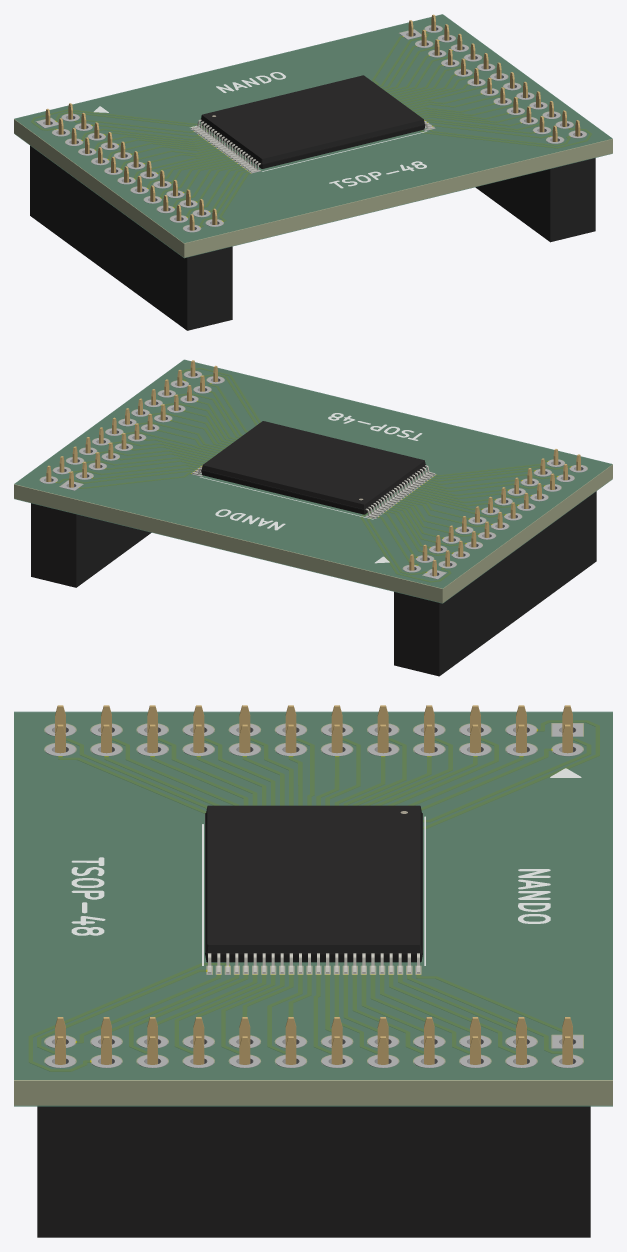
The model's file is board.glb.
3 views of the same model, one above another, from view 1: azimuth 30°, elevation 25°; view 2: azimuth 150°, elevation 25°; view 3: azimuth 270°, elevation 25° (orthographic). The views are drawn at different scales.
Visible parts, largest first — view 1: board_soldermask (×2), board_PCB, PinSocket_2x12_P2.54mm_Vertical (×2), TSOP-I-48_18.4x12mm_P0.5mm, board_pad, board_copper, board_silkscreen; view 2: board_soldermask (×2), board_PCB, PinSocket_2x12_P2.54mm_Vertical (×2), TSOP-I-48_18.4x12mm_P0.5mm, board_pad, board_copper, board_silkscreen; view 3: board_soldermask (×2), board_PCB, PinSocket_2x12_P2.54mm_Vertical (×2), TSOP-I-48_18.4x12mm_P0.5mm, board_copper, board_pad, board_silkscreen.
Boxes of the visible parts, box(x1,y1,x2,y2) form: board_soldermask (×2): box(14, 14, 612, 258); board_PCB: box(14, 15, 612, 257); PinSocket_2x12_P2.54mm_Vertical (×2): box(30, 14, 595, 330); TSOP-I-48_18.4x12mm_P0.5mm: box(191, 75, 434, 172); board_pad: box(36, 25, 586, 232); board_copper: box(31, 30, 591, 227); board_silkscreen: box(94, 72, 426, 188); board_soldermask (×2): box(14, 359, 612, 603); board_PCB: box(14, 360, 612, 603); PinSocket_2x12_P2.54mm_Vertical (×2): box(31, 360, 596, 676); TSOP-I-48_18.4x12mm_P0.5mm: box(192, 421, 435, 518); board_pad: box(40, 371, 587, 579); board_copper: box(56, 368, 571, 581); board_silkscreen: box(200, 413, 426, 563); board_soldermask (×2): box(14, 711, 612, 1106); board_PCB: box(14, 713, 612, 1105); PinSocket_2x12_P2.54mm_Vertical (×2): box(37, 705, 590, 1237); TSOP-I-48_18.4x12mm_P0.5mm: box(205, 805, 422, 973); board_copper: box(29, 721, 599, 1071); board_pad: box(45, 723, 582, 1067); board_silkscreen: box(71, 768, 581, 965).
Size of the model in its own units: 0.048 by 0.0116 by 0.033.
